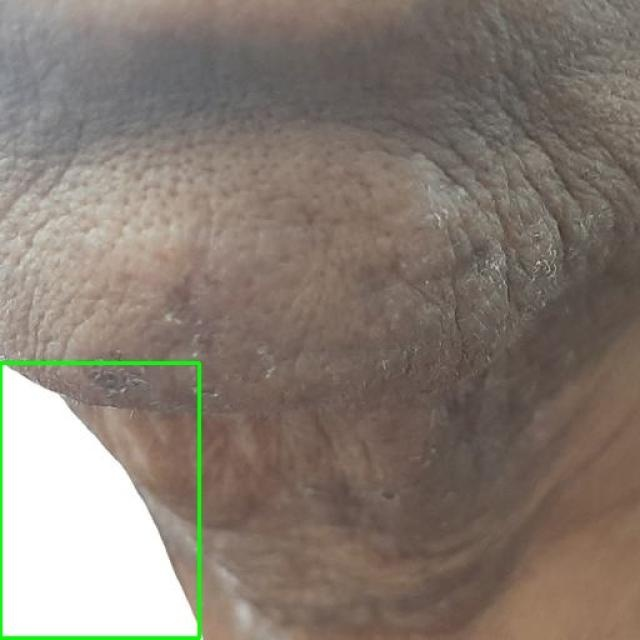Eczema: (0, 364, 200, 639)
